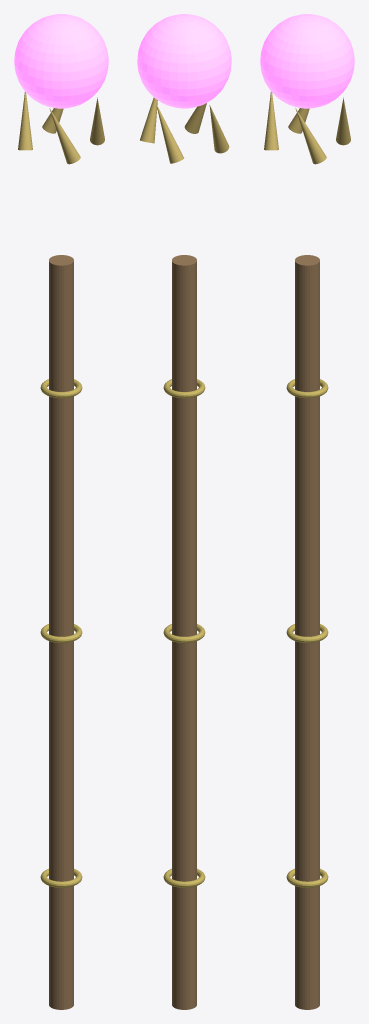
Rendered from magic_staff.glb.
The picture shows the model from 3 angles, left to right: view 1: azimuth 90°, elevation 25°; view 2: azimuth 150°, elevation 25°; view 3: azimuth 270°, elevation 25°; orthographic projection.
Parts seen in each view (by area): view 1: Cylinder, Sphere, Cone.001, Cone.002, Cone.003, Torus, Torus.002, Torus.001, Cone; view 2: Cylinder, Sphere, Cone.001, Cone, Cone.002, Torus, Torus.002, Torus.001, Cone.003; view 3: Cylinder, Sphere, Cone.003, Cone, Cone.001, Torus, Torus.002, Torus.001, Cone.002.
Part boxes in pixels (box(x1,y1,x2,y2)): Cylinder: box(49, 255, 73, 1009); Sphere: box(14, 14, 108, 108); Cone.001: box(18, 92, 32, 150); Cone.002: box(49, 108, 80, 164); Cone.003: box(90, 97, 104, 145); Torus: box(40, 868, 82, 887); Torus.002: box(40, 379, 82, 398); Torus.001: box(40, 624, 82, 642); Cone: box(42, 108, 63, 133); Cylinder: box(172, 255, 196, 1009); Sphere: box(137, 14, 231, 108); Cone.001: box(156, 103, 183, 163); Cone: box(140, 97, 157, 143); Cone.002: box(209, 105, 229, 153); Torus: box(163, 868, 205, 887); Torus.002: box(163, 379, 205, 398); Torus.001: box(163, 624, 205, 642); Cone.003: box(184, 103, 206, 133); Cylinder: box(295, 255, 319, 1009); Sphere: box(260, 14, 354, 108); Cone.003: box(264, 92, 278, 150); Cone: box(295, 108, 326, 164); Cone.001: box(336, 97, 350, 145); Torus: box(286, 868, 328, 887); Torus.002: box(286, 379, 328, 398); Torus.001: box(286, 624, 328, 642); Cone.002: box(288, 108, 309, 133).
Bounding box in the file's own units: 0.1053 × 1.21 × 0.1053.
